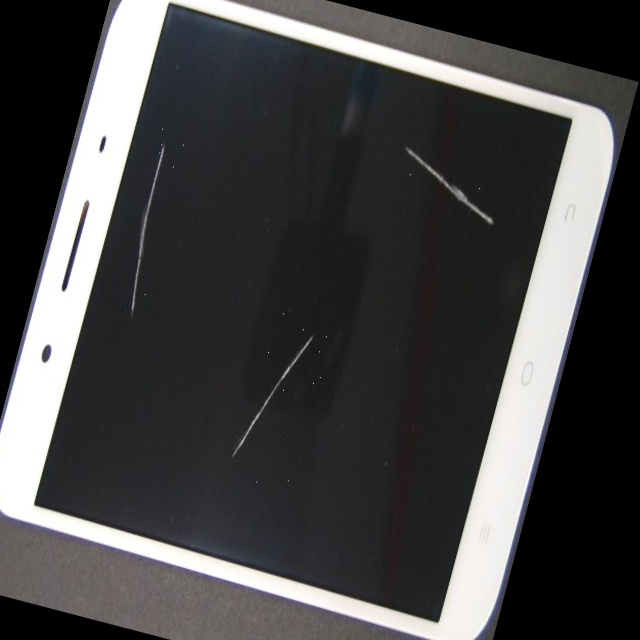scratch: (50, 198, 393, 640), (169, 9, 629, 297), (116, 29, 237, 209)
